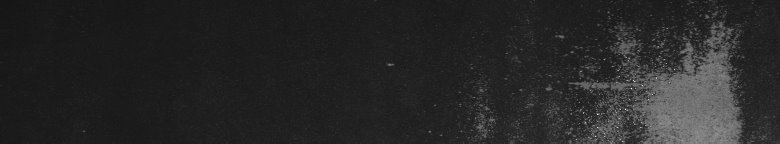kb: (616, 6, 728, 136)
